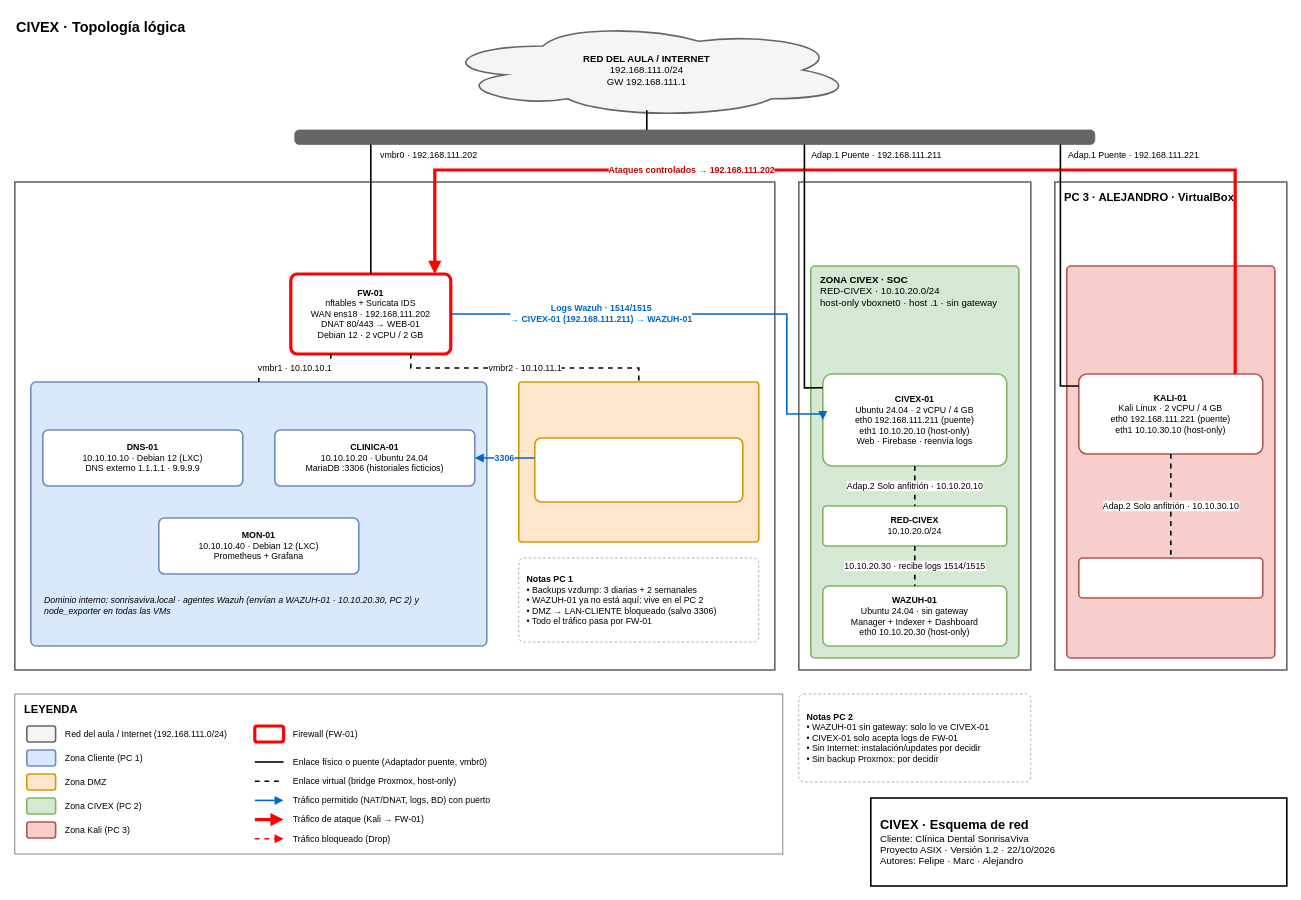
This 1301x900 diagram has some shape labels left out. The shapes that lost their labels are listed below. From the top down, each one's box as (x1, y1, x2, y2) in pixels, then its label:
(294, 129, 1095, 144): SWITCH DEL AULA
(14, 181, 775, 670): PC 1 · FELIPE · Proxmox VE (físico) pve01 · 192.168.111.201/24 · vmbr0
(798, 181, 1031, 670): PC 2 · MARC · VirtualBox
(518, 381, 759, 542): DMZ · vmbr2 · 10.10.11.0/24 · GW 10.10.11.1 (FW-01)
(534, 437, 743, 502): WEB-01 10.10.11.10 · Ubuntu 24.04 nginx · web de citas online
(1066, 265, 1275, 658): ZONA KALI RED-KALI · 10.10.30.0/24 host-only vboxnet0 · host .1 · sin gateway
(30, 381, 487, 646): LAN-CLIENTE · vmbr1 · 10.10.10.0/24 · GW 10.10.10.1 (FW-01)
(1078, 557, 1263, 598): RED-KALI 10.10.30.0/24
